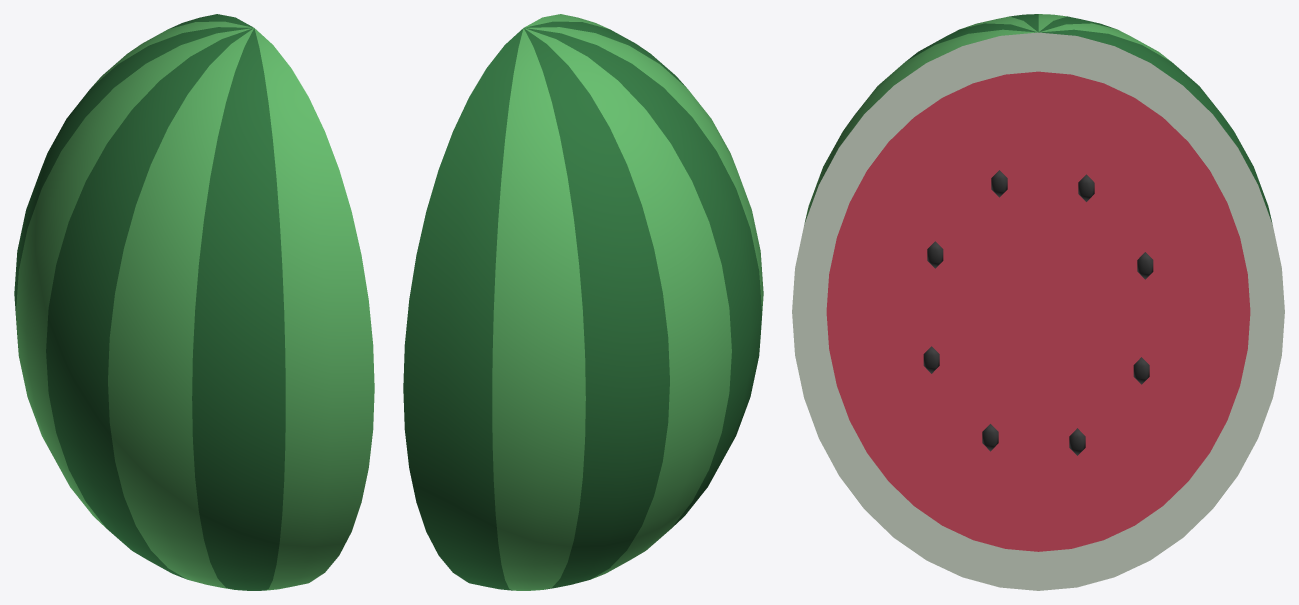
File: Watermelon_Half_A.fbx
3 views of the same model, side by side, from view 1: azimuth 30°, elevation 25°; view 2: azimuth 150°, elevation 25°; view 3: azimuth 270°, elevation 25° (orthographic). The views are drawn at different scales.
Visible parts, largest first — view 1: Watermelon_Half_A; view 2: Watermelon_Half_A; view 3: Watermelon_Half_A.
Part boxes in pixels (bbox=[...]): Watermelon_Half_A: bbox=[14, 14, 374, 590]; Watermelon_Half_A: bbox=[403, 14, 763, 590]; Watermelon_Half_A: bbox=[792, 14, 1284, 590].
Size of the model in its own units: 0.5338 by 1.3 by 1.04.
